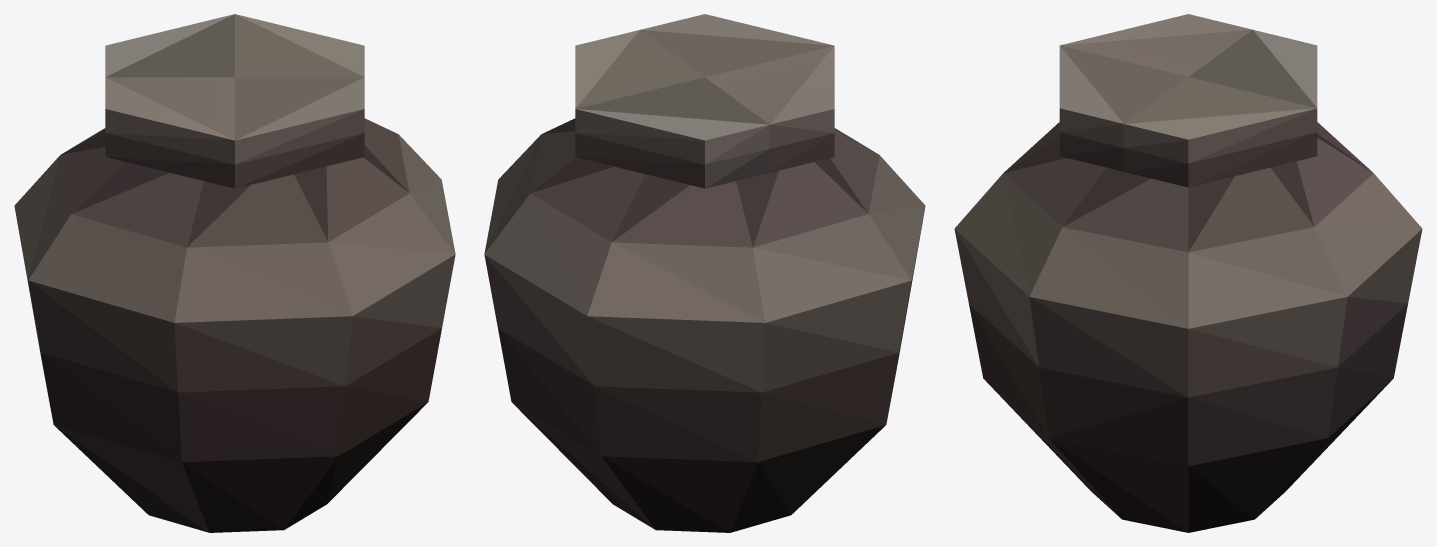
The model's file is prop_container_vase_9.fbx.
3 views of the same model, side by side, from view 1: azimuth 30°, elevation 25°; view 2: azimuth 150°, elevation 25°; view 3: azimuth 270°, elevation 25° (orthographic).
Parts seen in each view (by area): view 1: prop_container_vase_9; view 2: prop_container_vase_9; view 3: prop_container_vase_9.
Part boxes in pixels (bbox=[...]): prop_container_vase_9: bbox=[14, 14, 455, 532]; prop_container_vase_9: bbox=[484, 14, 925, 532]; prop_container_vase_9: bbox=[954, 14, 1422, 532].
Size of the model in its own units: 0.8439 by 0.8132 by 0.8327.
